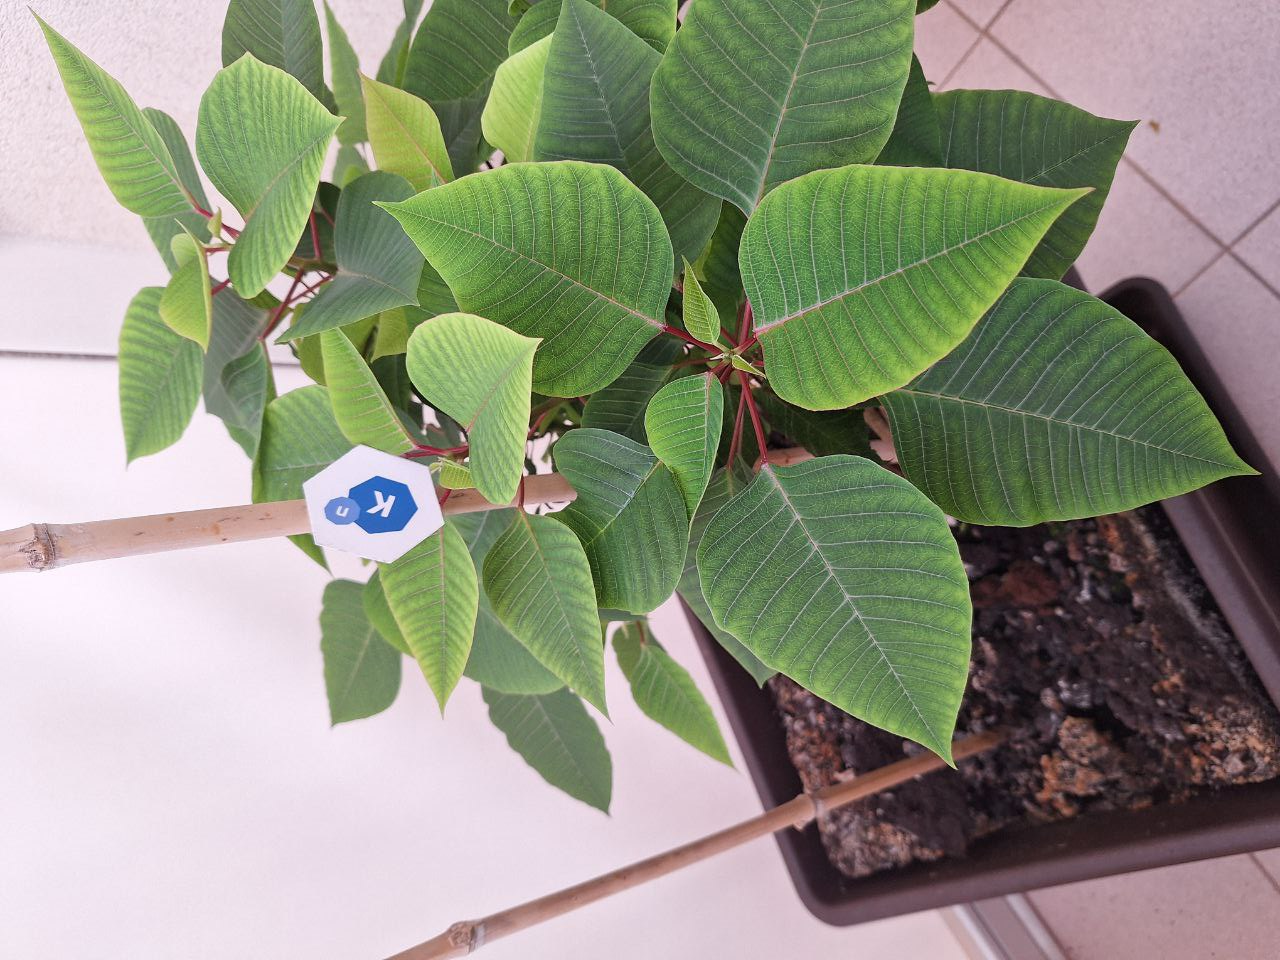knative: (318, 472, 423, 534)
